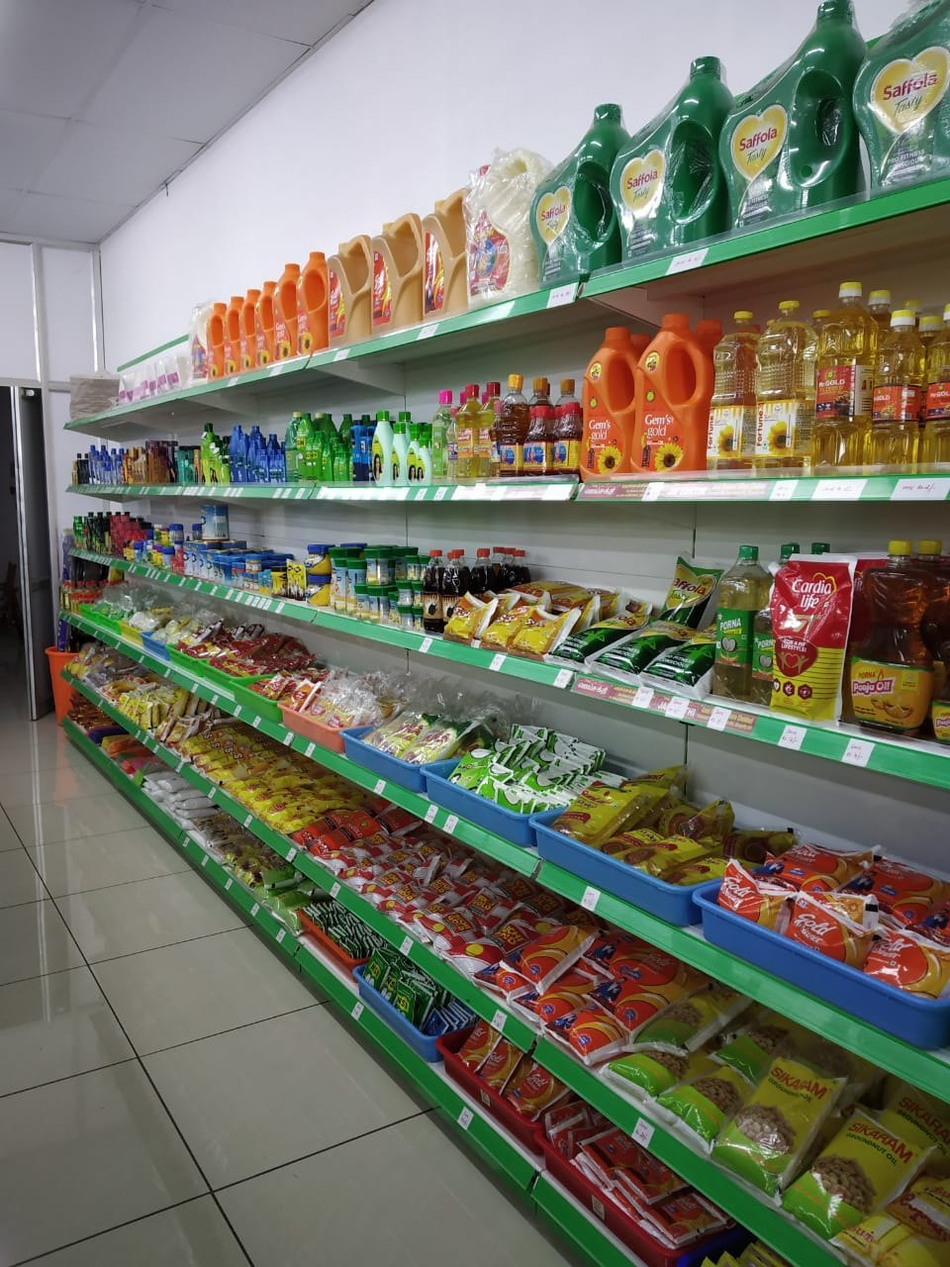saffola: (608, 56, 735, 263)
